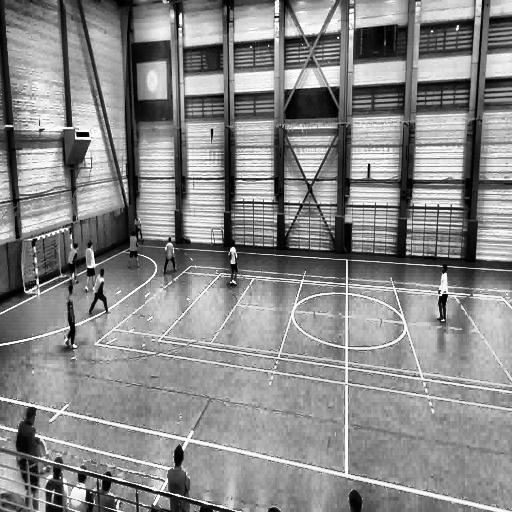player: (16, 408, 48, 508), (167, 444, 190, 512), (43, 454, 69, 512), (68, 454, 93, 512), (94, 454, 116, 512), (89, 267, 110, 315), (436, 262, 448, 323), (67, 242, 81, 290), (66, 280, 76, 347), (84, 240, 95, 295), (228, 240, 240, 286), (163, 236, 176, 274), (134, 212, 146, 247), (129, 232, 140, 268)
